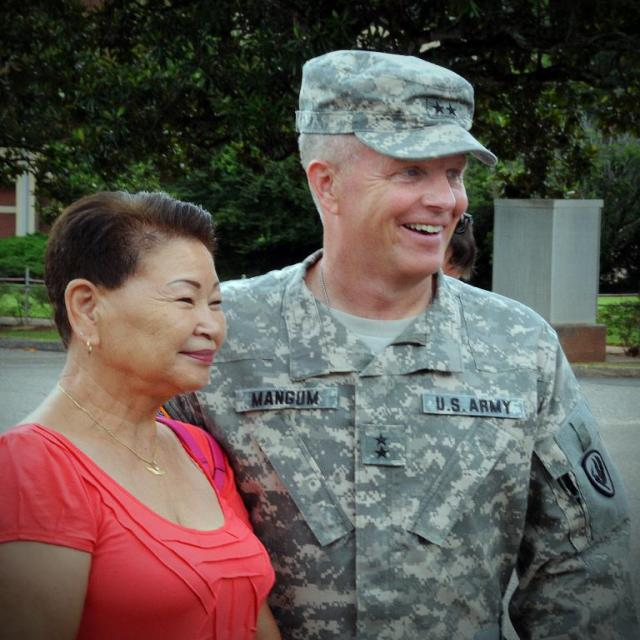Hat: (296, 45, 500, 172)
